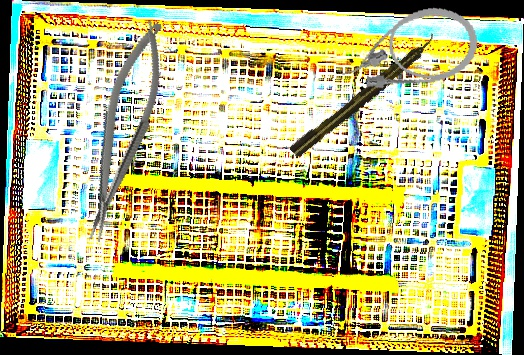Cannula: (332, 0, 485, 99)
Handpiece: (288, 31, 441, 160)
Needle Holder: (66, 16, 180, 246)
